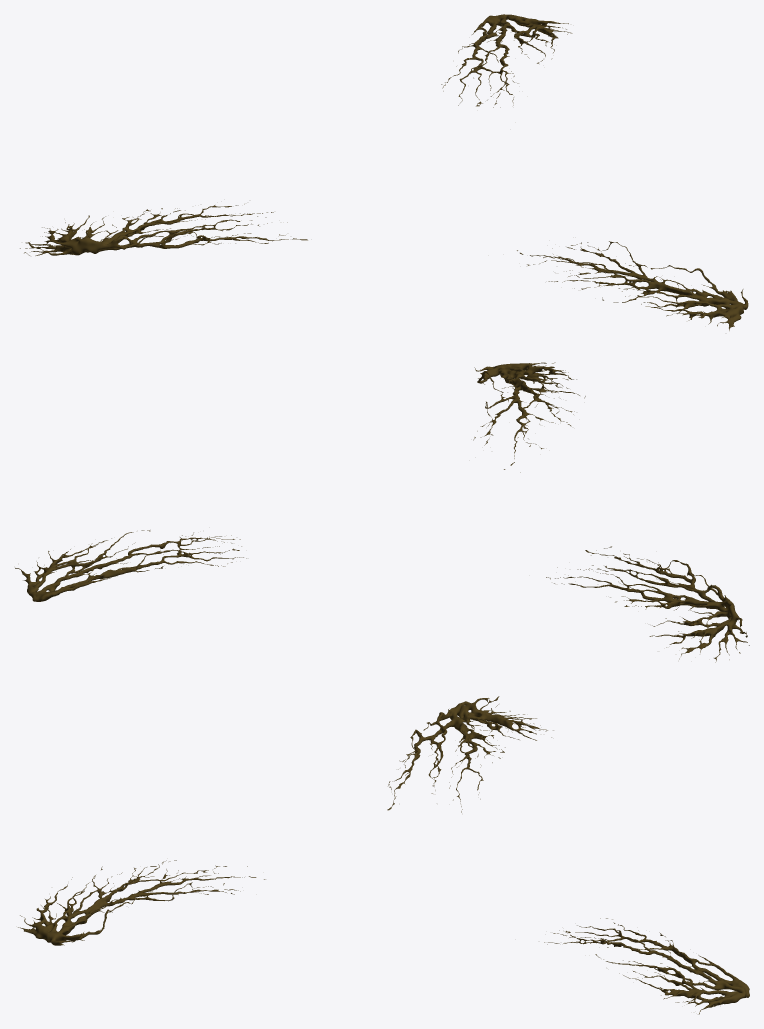
Rendered from GazeboBridgeVines.fbx.
3 views of the same model, one above another, from view 1: azimuth 30°, elevation 25°; view 2: azimuth 150°, elevation 25°; view 3: azimuth 270°, elevation 25° (orthographic). The views are drawn at different scales.
Visible parts, largest first — view 1: Cube.011, Cube.040, Cube.015; view 2: Cube.011, Cube.015, Cube.040; view 3: Cube.015, Cube.040, Cube.011.
Part boxes in pixels (box(x1,y1,x2,y2)): Cube.011: box(20, 204, 307, 255); Cube.040: box(517, 241, 748, 330); Cube.015: box(441, 14, 572, 107); Cube.011: box(546, 546, 749, 662); Cube.015: box(15, 530, 246, 601); Cube.040: box(473, 362, 585, 472); Cube.015: box(544, 918, 749, 1014); Cube.040: box(18, 860, 265, 945); Cube.011: box(387, 696, 553, 812).
Bounding box in the file's own units: 2952 × 151 × 2982.
